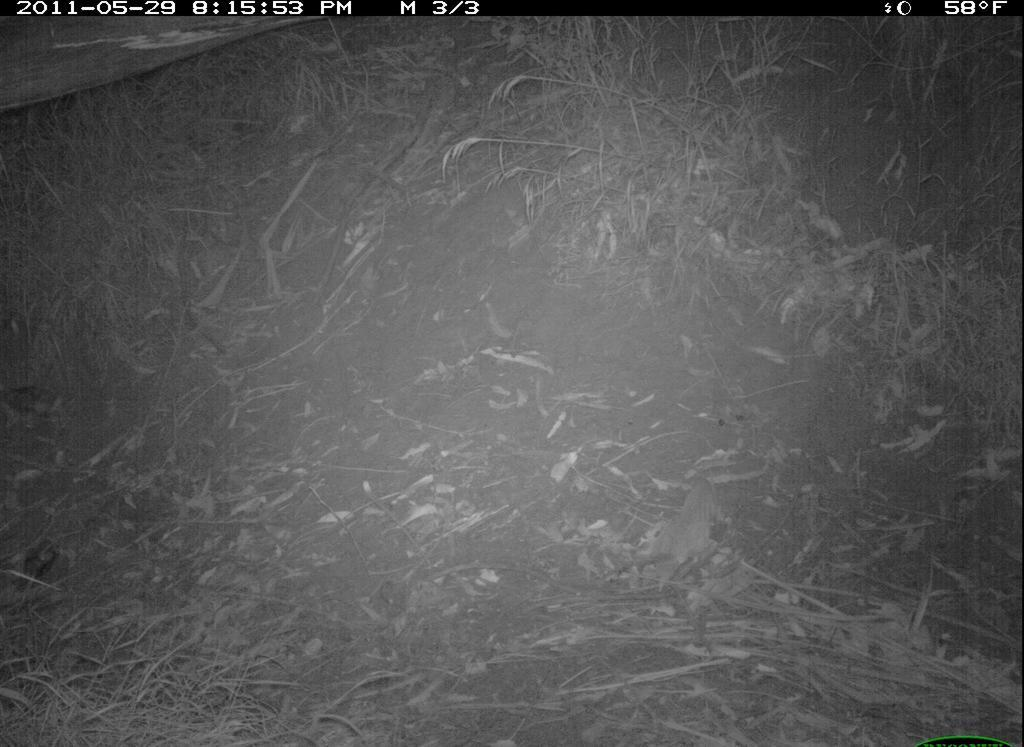rabbit: (2, 373, 68, 431)
